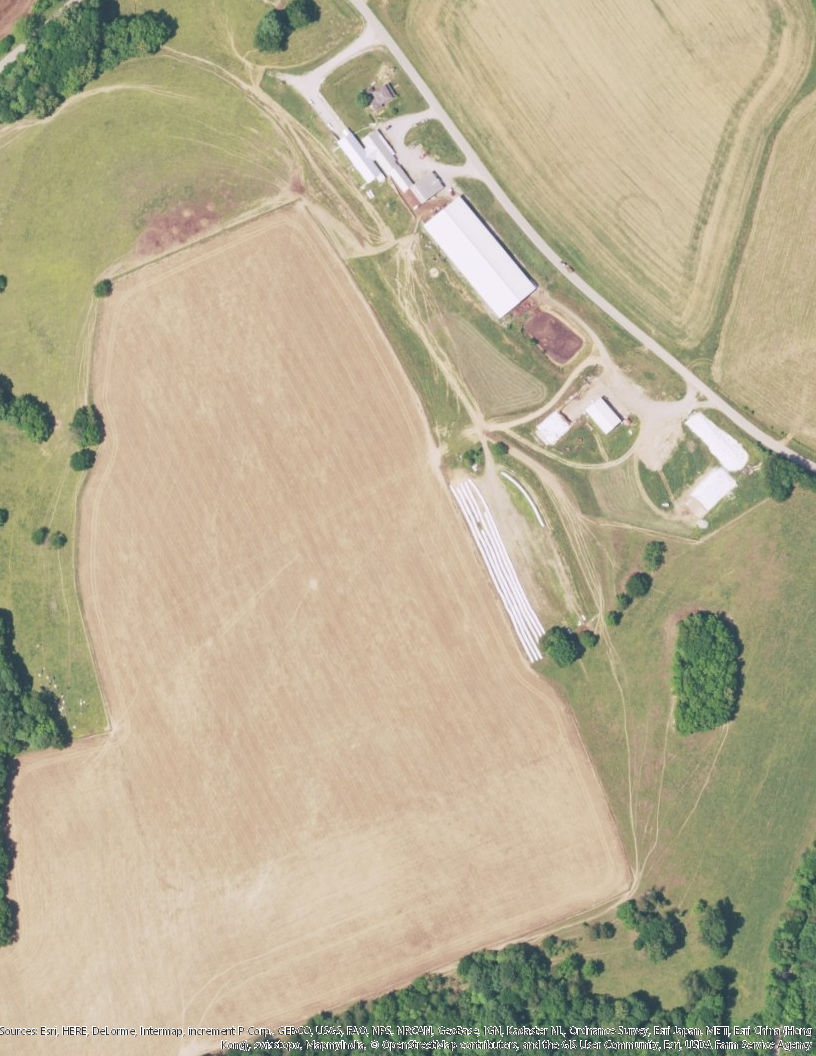cafo: (416, 193, 545, 324)
